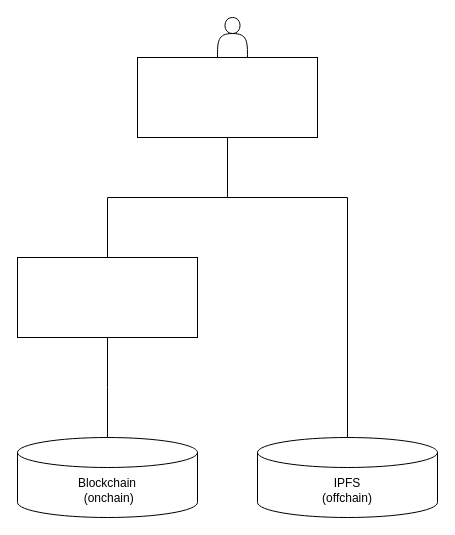
Image size: 455x535. Some labels were removed from this diagram. Each missing label, with the box of its shape:
Browser + Wallet (web3.js): (136, 56, 318, 138)
Smart Contract Recruitment.sol: (16, 256, 198, 338)
